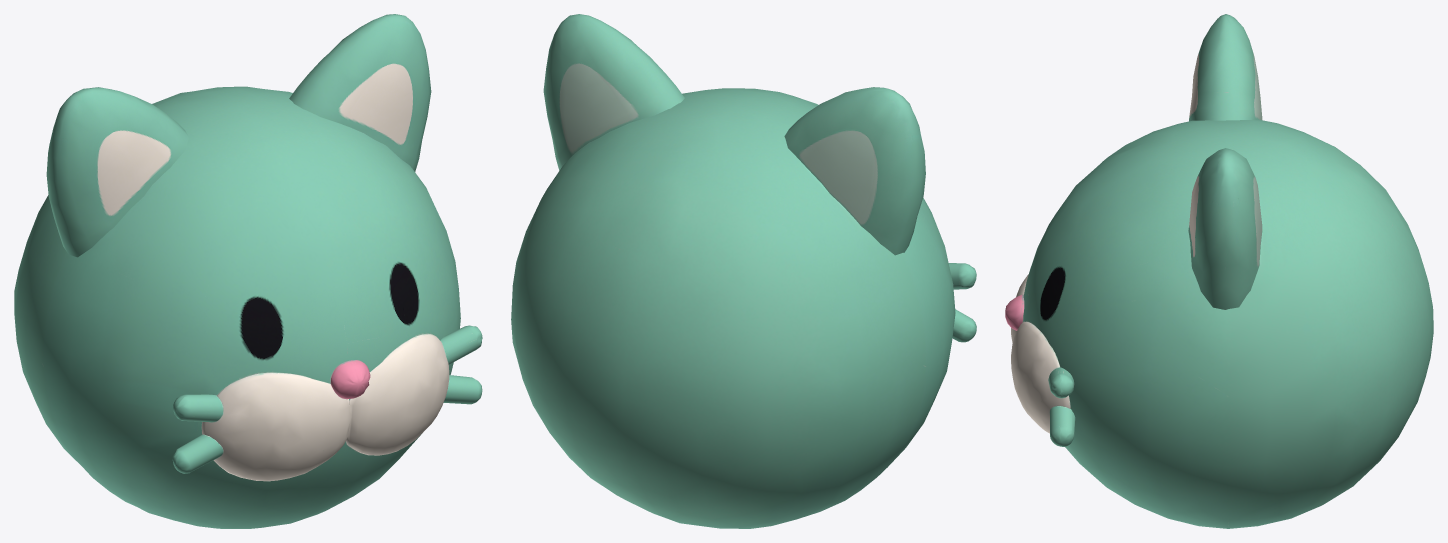
Rendered from cat_head.glb.
3 renders of one model, left to right at view 1: azimuth 30°, elevation 25°; view 2: azimuth 150°, elevation 25°; view 3: azimuth 270°, elevation 25°, orthographic. The views are drawn at different scales.
Size of the model in its own units: 0.8423 by 0.9517 by 0.8721.
1 material, 1 textured.
